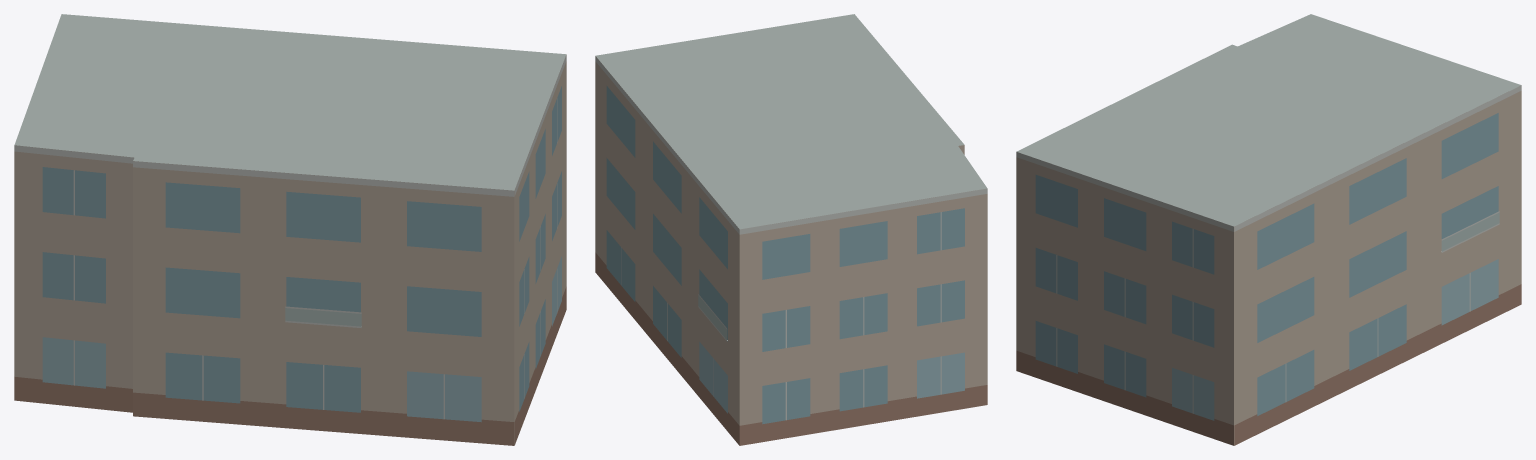
File: survey-upis-32901485.glb
3 views of the same model, side by side, from view 1: azimuth 30°, elevation 25°; view 2: azimuth 150°, elevation 25°; view 3: azimuth 270°, elevation 25° (orthographic). The views are drawn at different scales.
Visible parts, largest first — view 1: survey-upis-32901485.tmp; view 2: survey-upis-32901485.tmp; view 3: survey-upis-32901485.tmp.
Part boxes in pixels (<box>): survey-upis-32901485.tmp: <box>14,14,566,445</box>; survey-upis-32901485.tmp: <box>595,14,987,445</box>; survey-upis-32901485.tmp: <box>1016,14,1521,445</box>.
Bounding box in the file's own units: 20.6 × 9.9 × 20.69.
